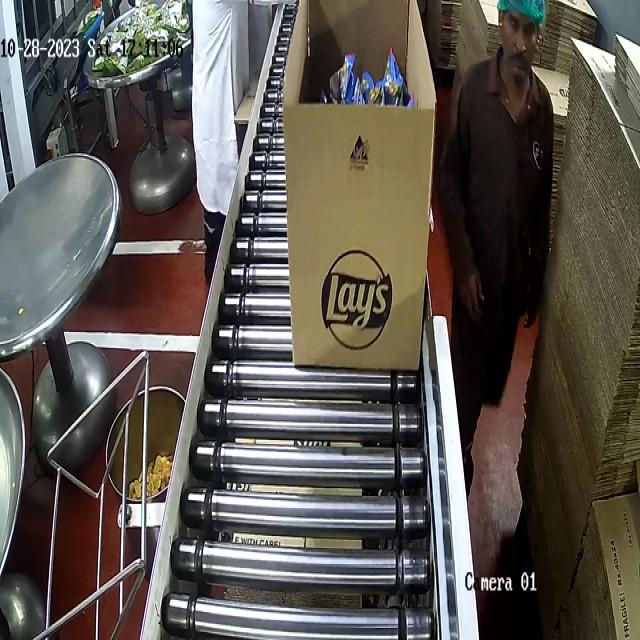PAPRIKA: (320, 54, 411, 102)
